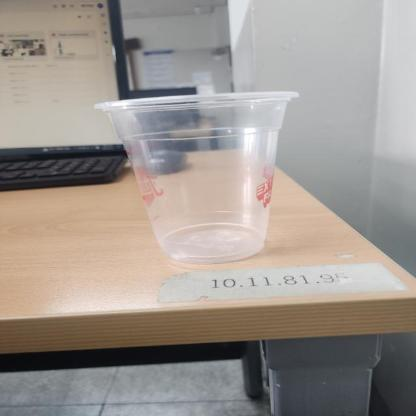Plastic Cup: (93, 90, 301, 264)
